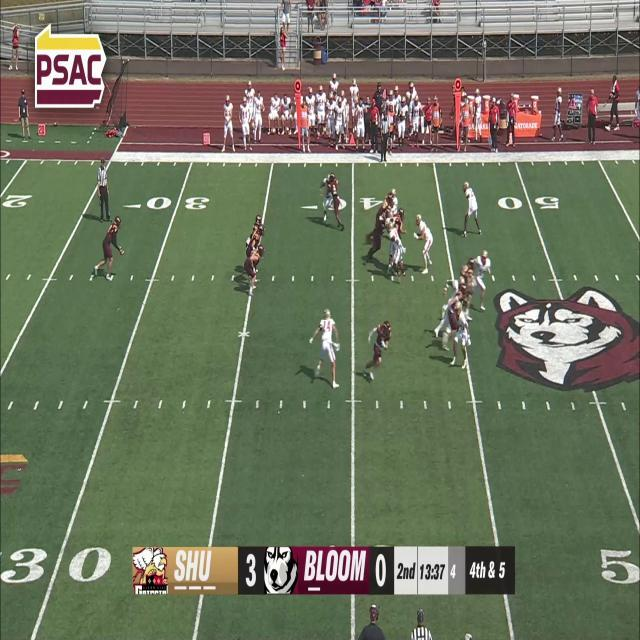football: (118, 246, 125, 256)
